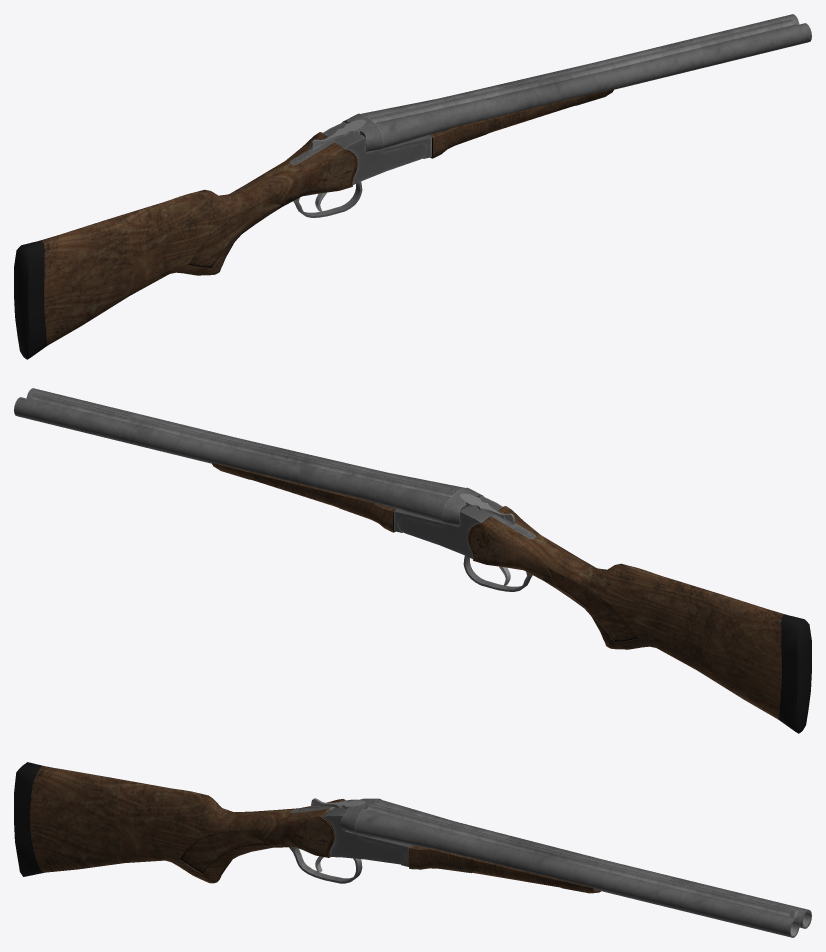
3 renders of one model, top to bottom at view 1: azimuth 30°, elevation 25°; view 2: azimuth 150°, elevation 25°; view 3: azimuth 330°, elevation 25°, orthographic.
Parts seen in each view (by area): view 1: stock_low, barrel_low, forearm_low, chambers_low; view 2: stock_low, barrel_low, forearm_low, chambers_low; view 3: stock_low, barrel_low, forearm_low, chambers_low, release_low.
Boxes of the visible parts, x1,y1,x2,y2 form: stock_low: (14,122,427,359); barrel_low: (361,14,811,149); forearm_low: (379,88,613,158); chambers_low: (342,113,383,151); stock_low: (398,496,811,733); barrel_low: (14,388,464,523); forearm_low: (212,462,446,532); chambers_low: (442,487,483,525); stock_low: (14,762,405,883); barrel_low: (355,799,811,937); forearm_low: (357,834,600,893); chambers_low: (340,798,381,833); release_low: (311,798,365,808).
Size of the model in its own units: 1.67 by 0.3182 by 0.1046.
Materials: 6 (6 with a texture image).
